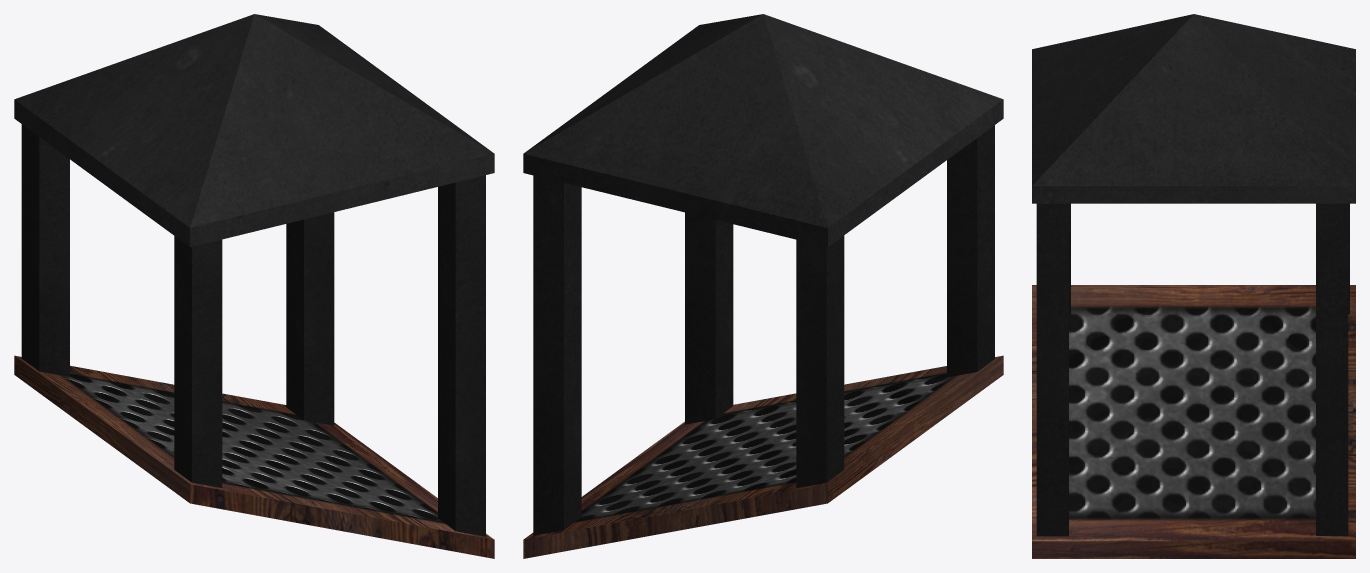
File: ShackFlueLowSloped.fbx
3 renders of one model, left to right at view 1: azimuth 30°, elevation 25°; view 2: azimuth 150°, elevation 25°; view 3: azimuth 270°, elevation 25°, orthographic. The views are drawn at different scales.
Parts seen in each view (by area): view 1: ShackFlueLowSloped; view 2: ShackFlueLowSloped; view 3: ShackFlueLowSloped.
Part boxes in pixels (bbox=[...]): ShackFlueLowSloped: bbox=[14, 14, 494, 558]; ShackFlueLowSloped: bbox=[523, 14, 1003, 558]; ShackFlueLowSloped: bbox=[1032, 14, 1355, 558].
Bounding box in the file's own units: 50 × 81.23 × 50.
